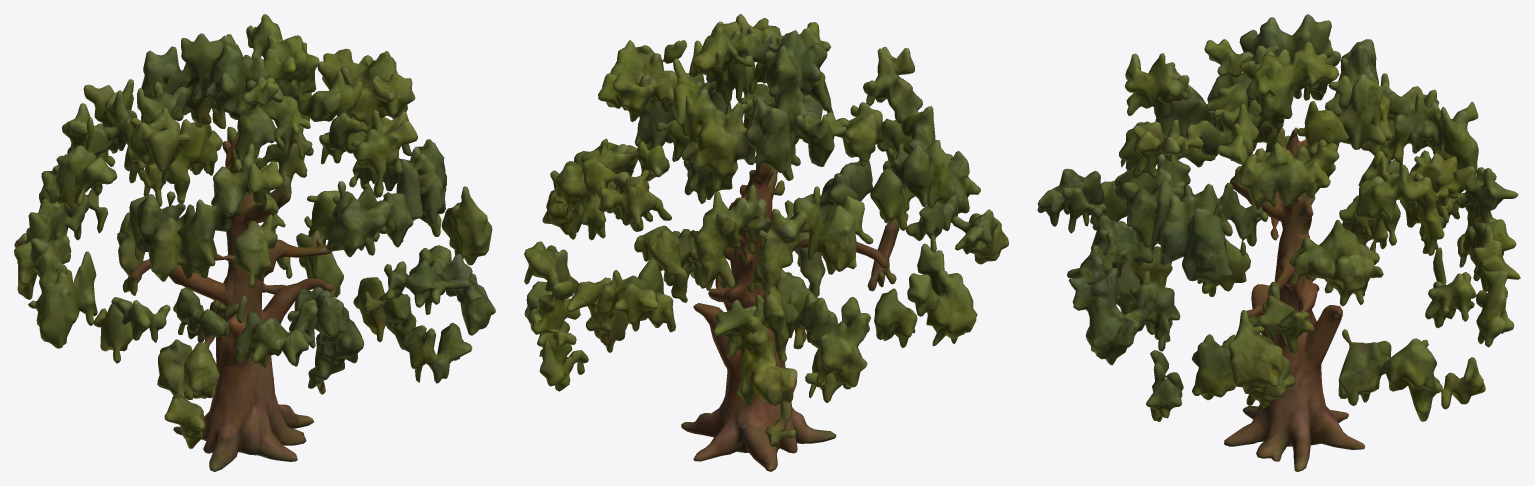
File: tree_oak.glb
3 renders of one model, left to right at view 1: azimuth 30°, elevation 25°; view 2: azimuth 150°, elevation 25°; view 3: azimuth 270°, elevation 25°, orthographic.
Parts seen in each view (by area): view 1: tripo_node_468cc4f2-489f-4950-b1a6-ee4e75cb3323; view 2: tripo_node_468cc4f2-489f-4950-b1a6-ee4e75cb3323; view 3: tripo_node_468cc4f2-489f-4950-b1a6-ee4e75cb3323.
Part boxes in pixels (x1,y1,x2,y2): tripo_node_468cc4f2-489f-4950-b1a6-ee4e75cb3323: [14, 14, 495, 471]; tripo_node_468cc4f2-489f-4950-b1a6-ee4e75cb3323: [524, 14, 1008, 471]; tripo_node_468cc4f2-489f-4950-b1a6-ee4e75cb3323: [1037, 14, 1520, 471].
Size of the model in its own units: 0.934 by 0.8599 by 0.9086.
Materials: 1 (1 with a texture image).
